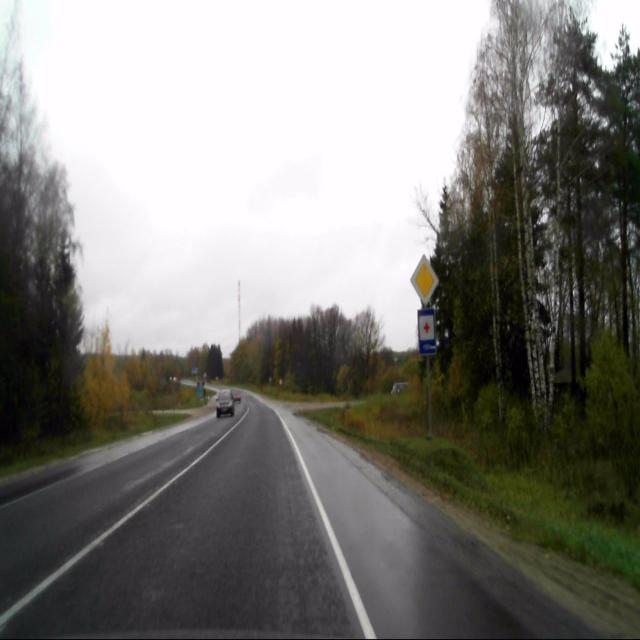road sign: (409, 252, 440, 309), (418, 309, 438, 355)
